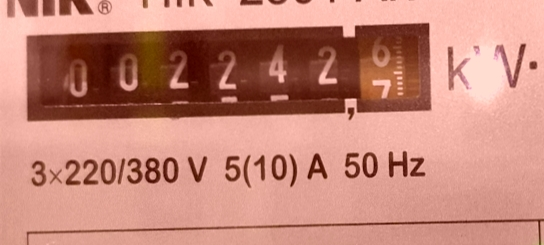0: (113, 49, 138, 92), (165, 47, 189, 90), (65, 55, 87, 99)
2: (214, 47, 238, 91), (313, 43, 337, 87)
4: (263, 41, 287, 85)
6: (367, 35, 391, 68)
7: (368, 77, 391, 99)
screen: (14, 11, 446, 136)
